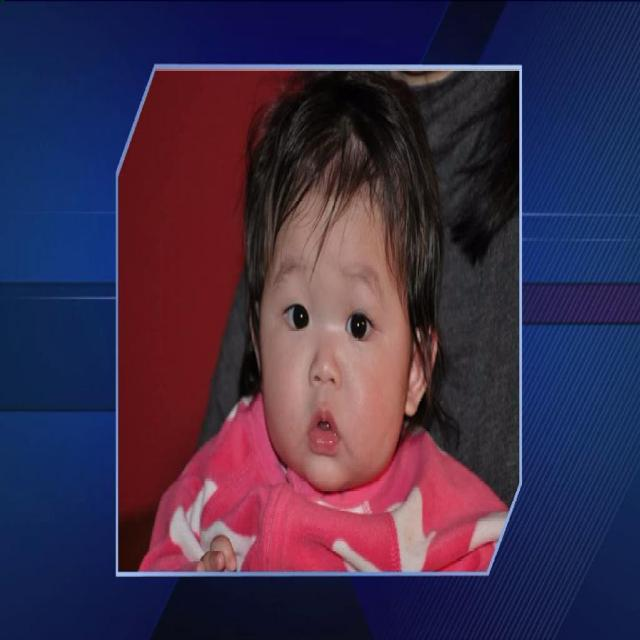nomask: (258, 167, 408, 496)
